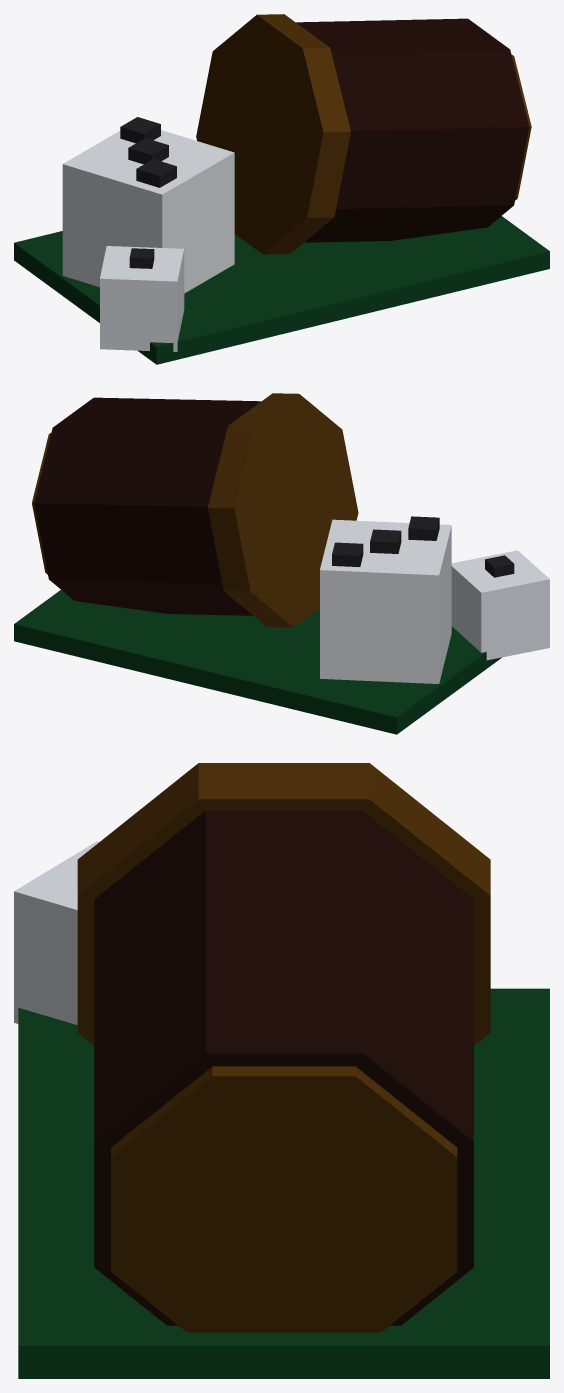
File: Energy_Plus1.fbx
3 views of the same model, one above another, from view 1: azimuth 30°, elevation 25°; view 2: azimuth 150°, elevation 25°; view 3: azimuth 270°, elevation 25° (orthographic). The views are drawn at different scales.
Visible parts, largest first — view 1: Energy_Plus1; view 2: Energy_Plus1; view 3: Energy_Plus1.
Boxes of the visible parts, x1,y1,x2,y2 form: Energy_Plus1: (14, 14, 549, 364); Energy_Plus1: (14, 393, 549, 734); Energy_Plus1: (14, 763, 549, 1378).
Size of the model in its own units: 79.28 by 39.84 by 44.36.
